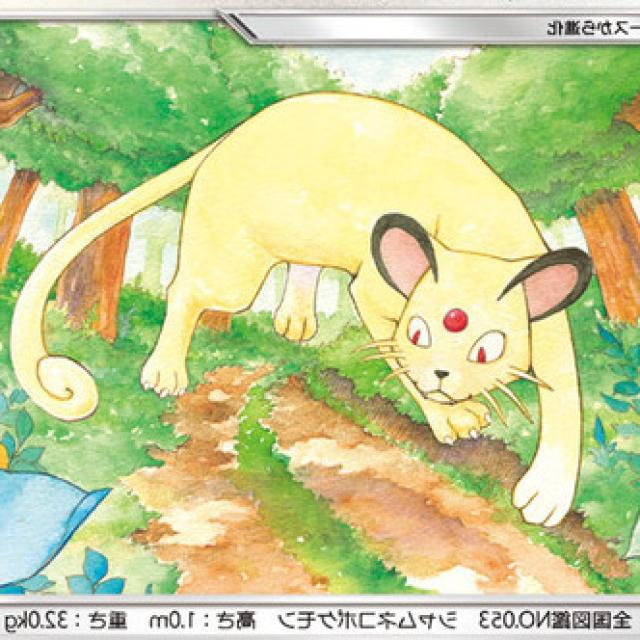Persian: (136, 88, 595, 436)
